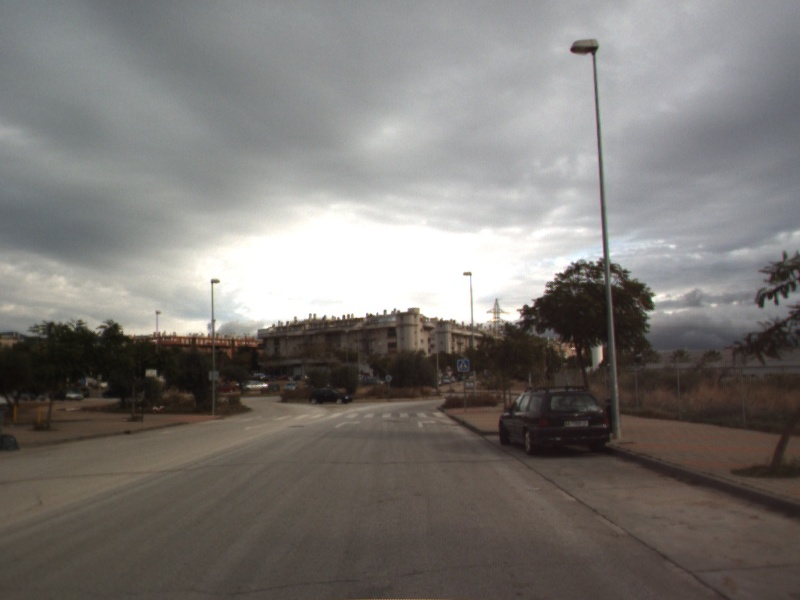RIGHT: (333, 418, 363, 430), (416, 418, 439, 429)
